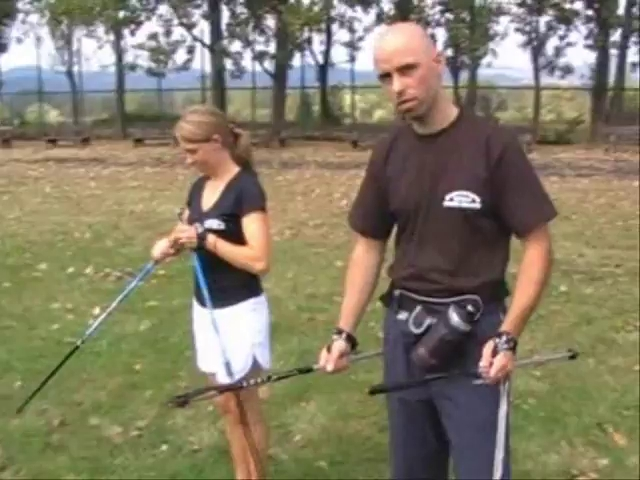person: (317, 22, 550, 479), (148, 103, 270, 479)
